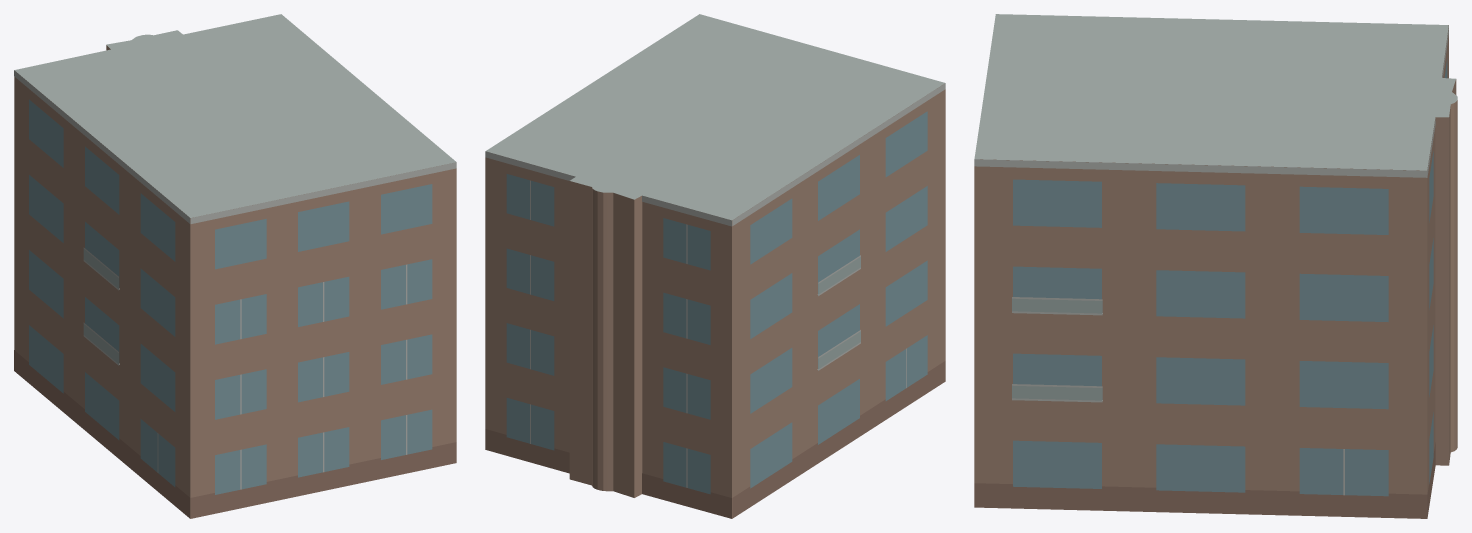
The model's file is survey-upis-32894378.glb.
3 renders of one model, left to right at view 1: azimuth 30°, elevation 25°; view 2: azimuth 150°, elevation 25°; view 3: azimuth 270°, elevation 25°, orthographic. The views are drawn at different scales.
Parts seen in each view (by area): view 1: survey-upis-32894378.tmp; view 2: survey-upis-32894378.tmp; view 3: survey-upis-32894378.tmp.
Boxes of the visible parts, left/top/right/bottom form: survey-upis-32894378.tmp: left=14, top=14, right=456, bottom=518; survey-upis-32894378.tmp: left=485, top=14, right=945, bottom=518; survey-upis-32894378.tmp: left=974, top=14, right=1457, bottom=518.
Bounding box in the file's own units: 11.39 × 11.8 × 14.85.
